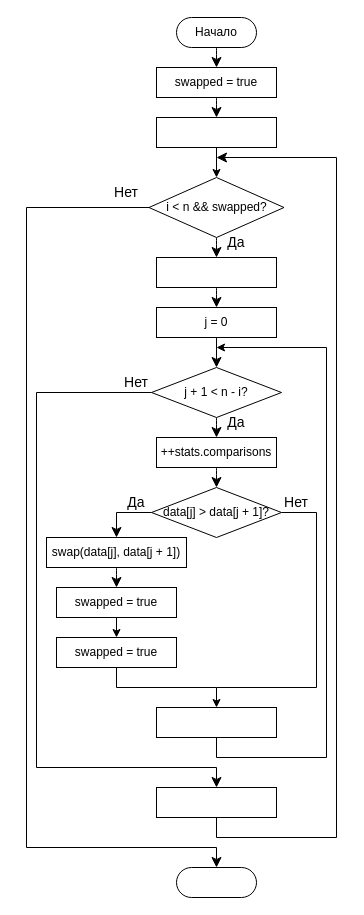
Some shapes in this 364 by 915 pixel diagram are drawn without their labels. Each missing label, with the centre of its shape:
++i: the point at 216,802
++j: the point at 216,722
i = 0: the point at 216,132
swapped = false: the point at 216,272
Конец: the point at 216,882
